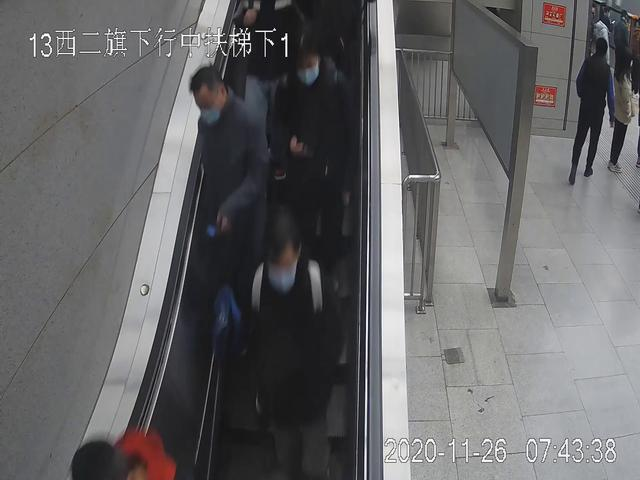person: (236, 221, 340, 480), (276, 33, 363, 316), (188, 65, 269, 340), (568, 38, 615, 184), (610, 53, 632, 171)
